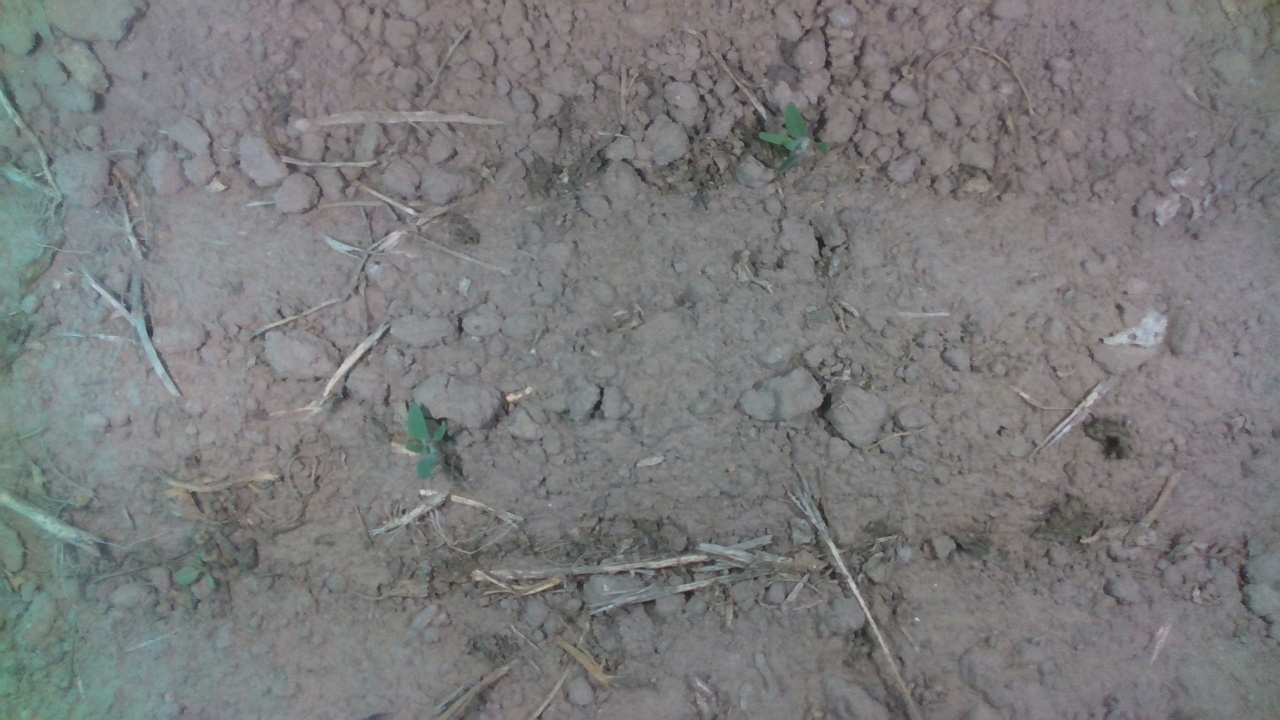weed: (757, 97, 831, 176), (402, 398, 448, 481)
